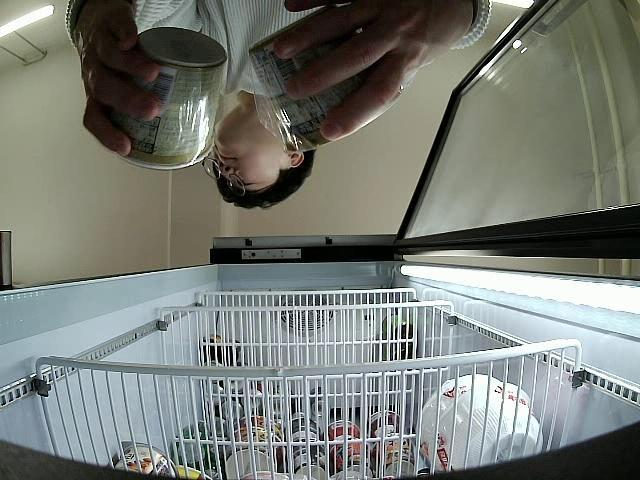04_chapagetti_S: (248, 6, 403, 152), (106, 26, 228, 170)
